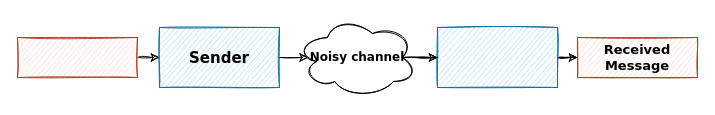
This 715x115 diagram has some shape labels left out. Here are the shapes that lost their labels. From the top down, the centre of each, then its label:
At (x=77, y=57): "Message".
At (x=497, y=57): "Receiver".
